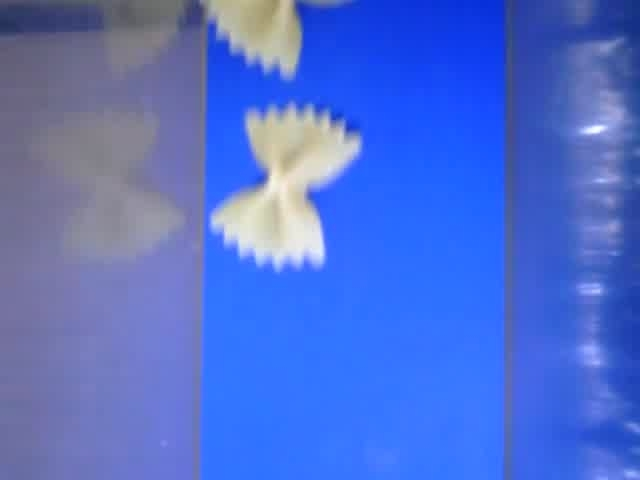farfalle: (207, 102, 364, 273), (204, 1, 350, 82)
